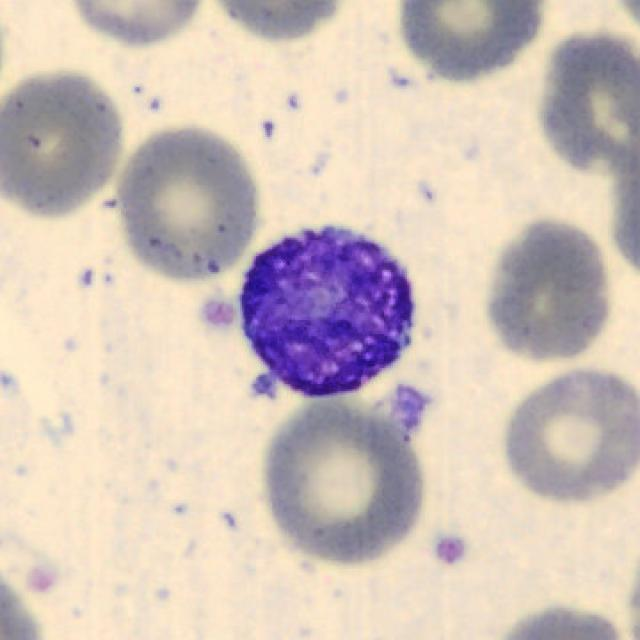Linfocito: (238, 226, 416, 400)
